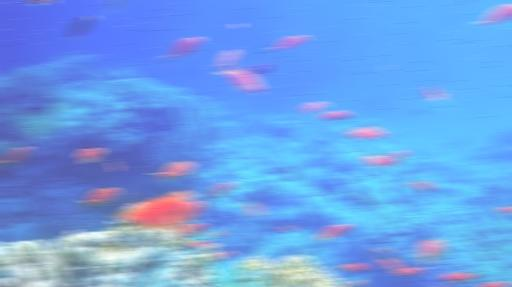Fish: (119, 197, 190, 229), (216, 63, 261, 94), (160, 38, 201, 67), (472, 6, 511, 29), (149, 161, 192, 181), (82, 188, 117, 210), (419, 239, 442, 266), (316, 224, 349, 241), (271, 35, 306, 51), (343, 126, 384, 139), (206, 182, 233, 199), (2, 147, 29, 163), (362, 154, 391, 167), (424, 85, 446, 102), (182, 223, 203, 240), (77, 148, 102, 162), (442, 272, 475, 282), (301, 101, 326, 114), (218, 49, 237, 66), (385, 150, 406, 165), (319, 110, 350, 120), (248, 62, 271, 75), (244, 200, 261, 216), (162, 190, 191, 199), (409, 180, 432, 191), (393, 267, 420, 276), (378, 258, 399, 269), (340, 263, 367, 271), (187, 240, 208, 248), (215, 251, 232, 260), (208, 231, 223, 239), (485, 281, 506, 286), (276, 225, 293, 231), (347, 280, 362, 286), (33, 0, 54, 4), (110, 0, 116, 13), (499, 206, 511, 211), (461, 0, 467, 3)
